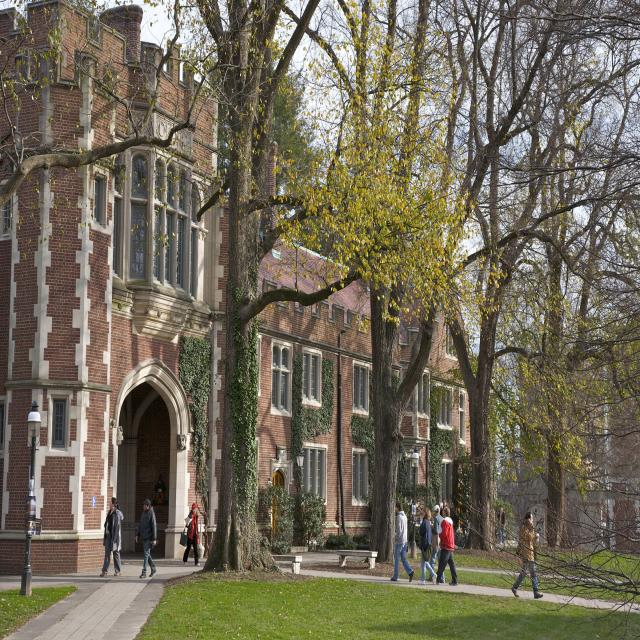body: (510, 510, 544, 600), (430, 504, 459, 587), (98, 495, 125, 580), (389, 501, 415, 583), (135, 496, 157, 578), (417, 506, 438, 586), (426, 504, 445, 584), (182, 502, 201, 567), (498, 504, 506, 546), (440, 497, 450, 518), (177, 433, 186, 448), (117, 427, 124, 444)
